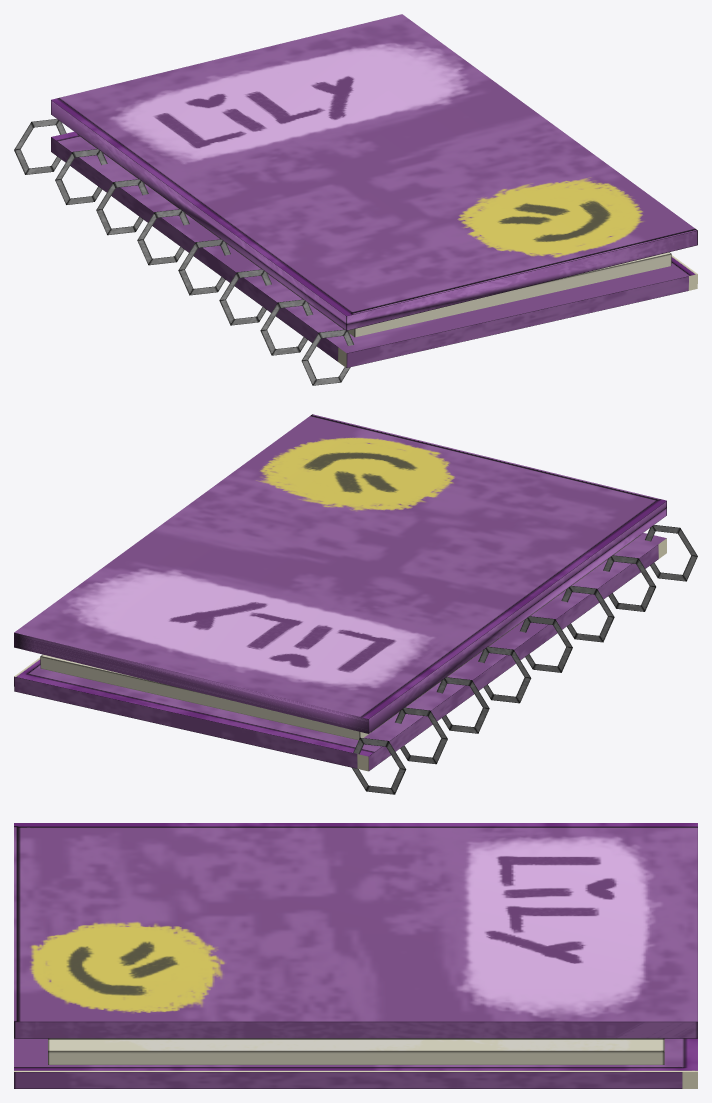
File: libreta (1).fbx
3 renders of one model, top to bottom at view 1: azimuth 30°, elevation 25°; view 2: azimuth 150°, elevation 25°; view 3: azimuth 270°, elevation 25°, orthographic. The views are drawn at different scales.
Visible parts, largest first — view 1: tapa1, tapa 2, grilleta; view 2: tapa1, tapa 2, grilleta; view 3: tapa1, tapa 2.
Boxes of the visible parts, x1,y1,x2,y2 form: tapa1: (51, 14, 697, 330); tapa 2: (51, 131, 697, 367); grilleta: (14, 119, 353, 385); tapa1: (14, 414, 666, 733); tapa 2: (14, 533, 666, 771); grilleta: (352, 525, 697, 794); tapa1: (14, 823, 697, 1039); tapa 2: (14, 1038, 697, 1088).
Size of the model in its own units: 16.64 by 2.96 by 21.89.
1 material, 1 textured.
